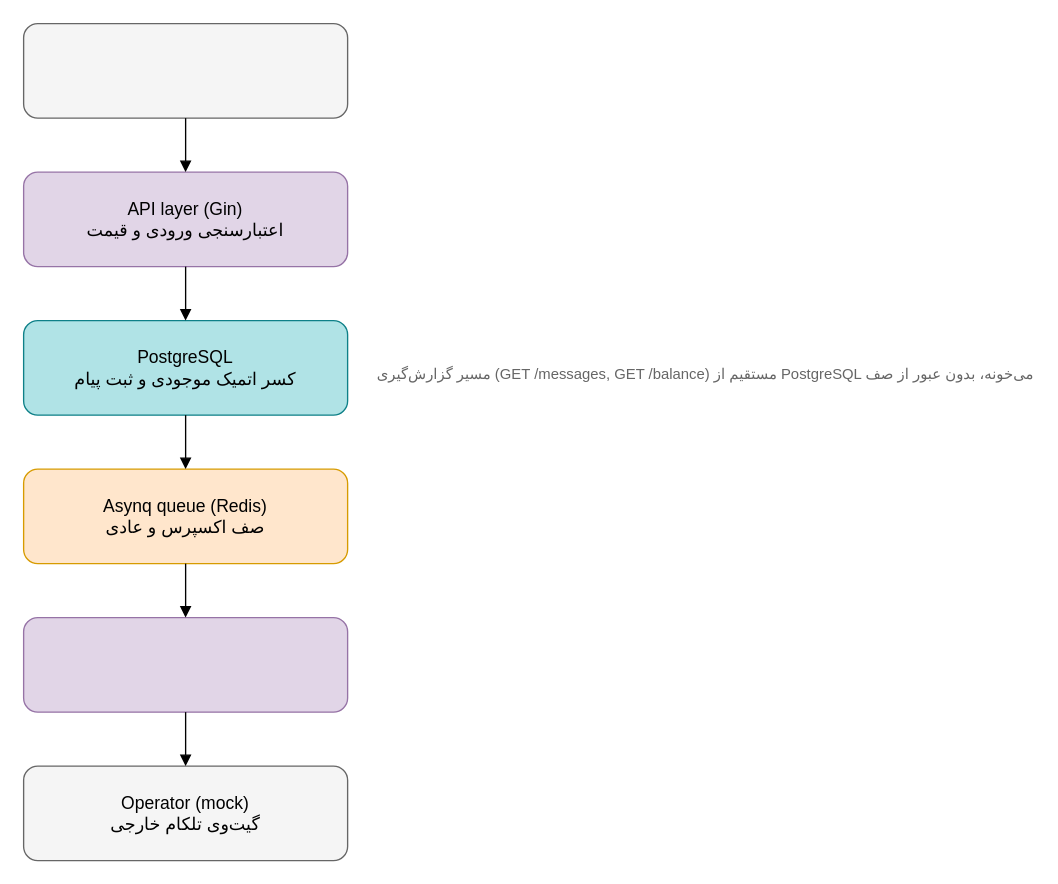
Image size: 1058x884. Some labels were removed from this diagram. The shapes that lost their labels are listed below. From the top down, each one's box as (x1, y1, x2, y2) in pixels, then its label:
(22, 22, 348, 118): Client درخواست‌های REST می‌فرسته
(22, 616, 348, 712): Worker pool ارسال به اپراتور و آپدیت وضعیت
